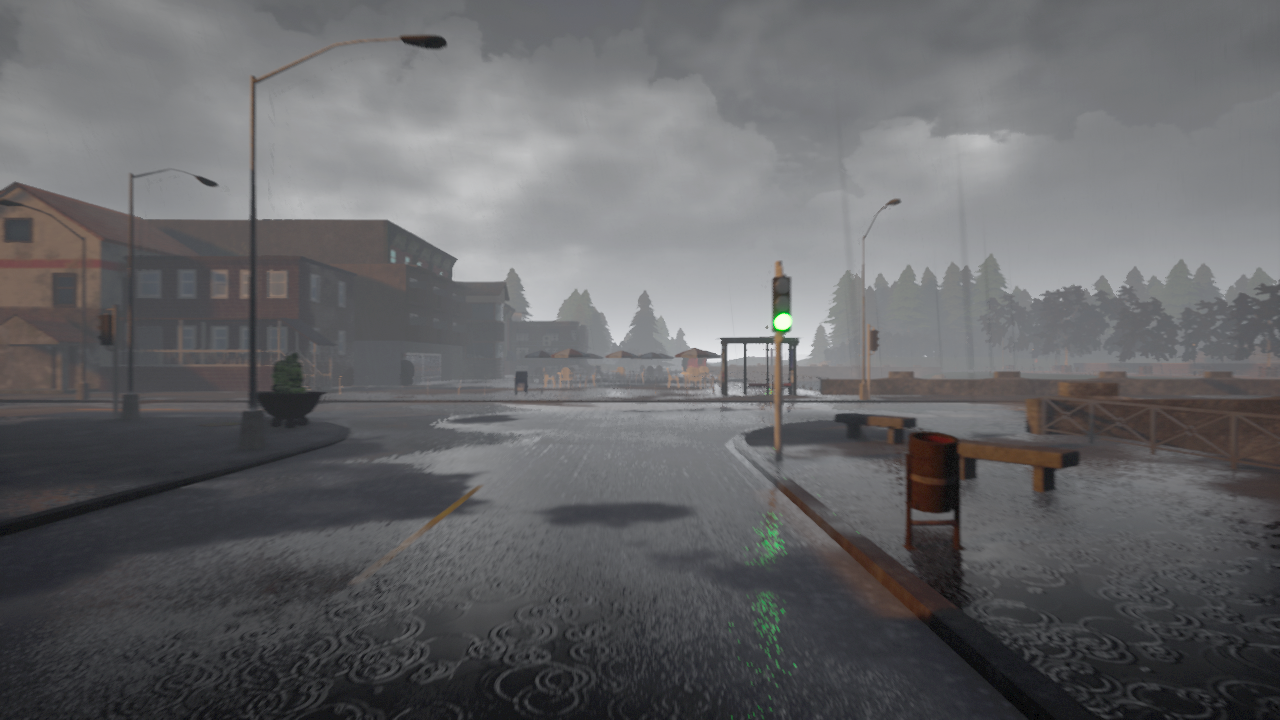green: (768, 273, 793, 331)
